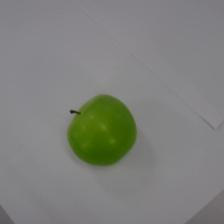green: (64, 88, 141, 168)
yellow: (47, 85, 215, 217)
